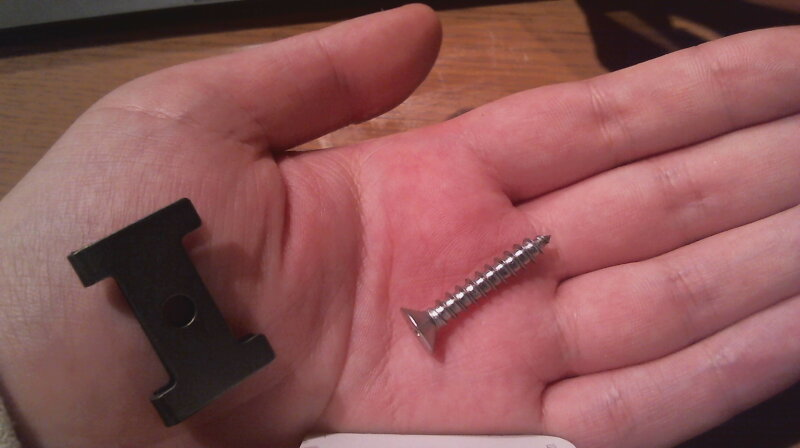O002: (64, 194, 276, 427)
S001: (396, 229, 554, 358)
